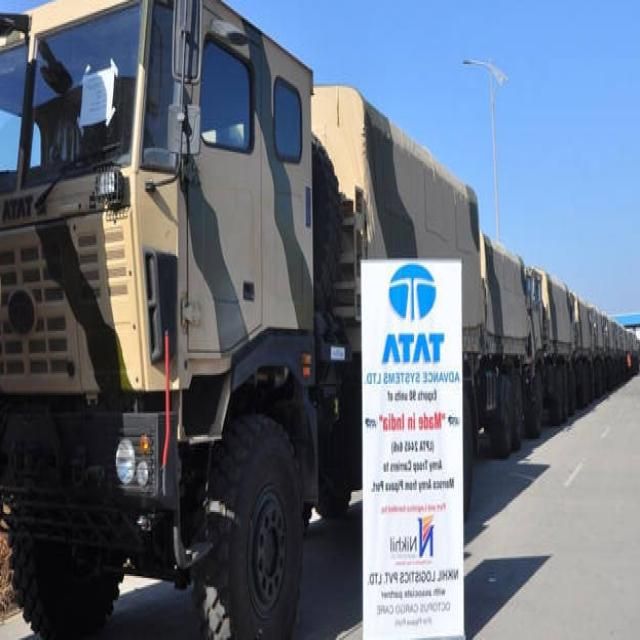truck: (0, 0, 486, 636)
